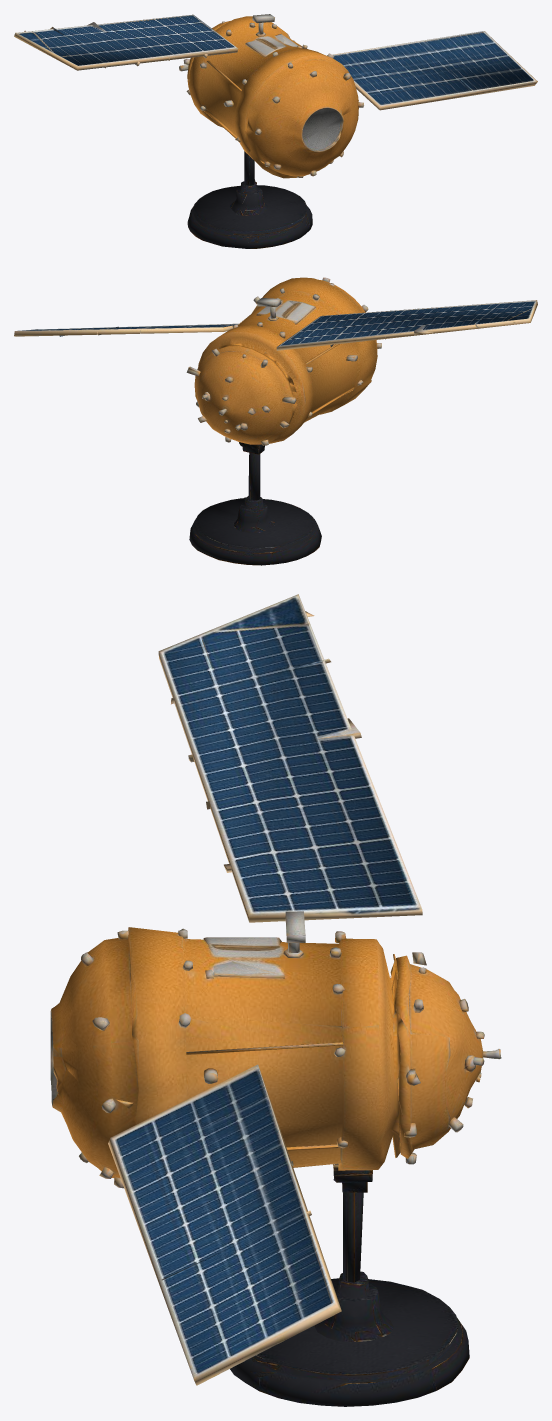
File: office-satellite-model.glb
3 renders of one model, top to bottom at view 1: azimuth 30°, elevation 25°; view 2: azimuth 150°, elevation 25°; view 3: azimuth 270°, elevation 25°, orthographic. The views are drawn at different scales.
Visible parts, largest first — view 1: satellite-model; view 2: satellite-model; view 3: satellite-model.
Boxes of the visible parts, left/top/right/bottom form: satellite-model: left=14, top=14, right=537, bottom=248; satellite-model: left=14, top=277, right=537, bottom=565; satellite-model: left=50, top=594, right=501, bottom=1406.
Size of the model in its own units: 1.8 by 0.8959 by 0.7059.
1 material, 1 textured.
